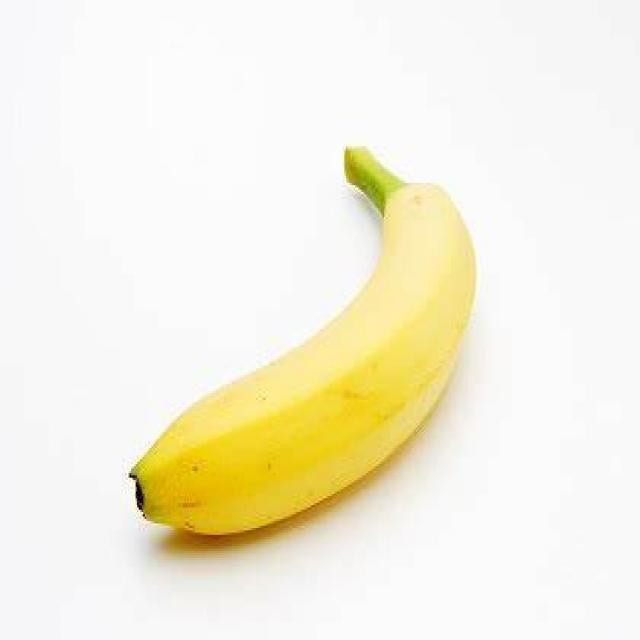Banana: (133, 138, 477, 545)
